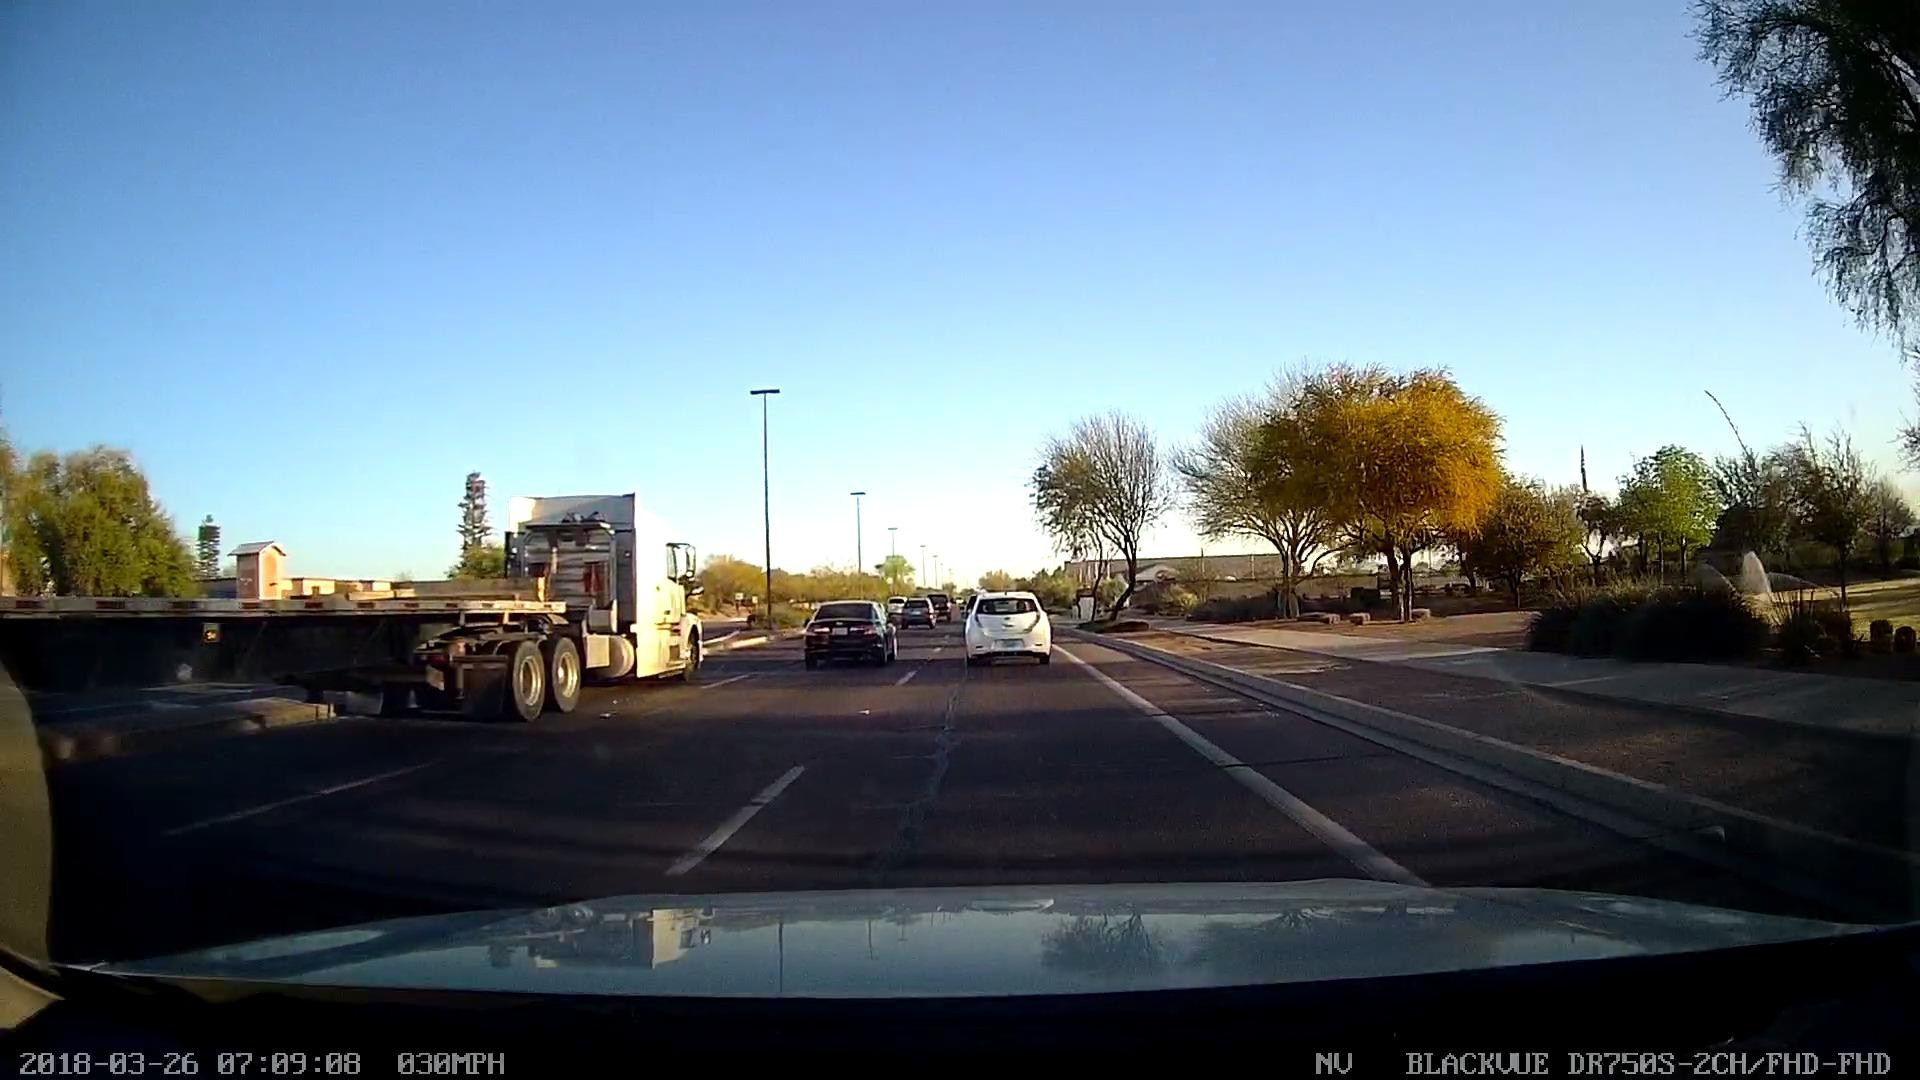vehicle: (0, 459, 725, 746), (771, 579, 923, 690), (942, 574, 1065, 684)
